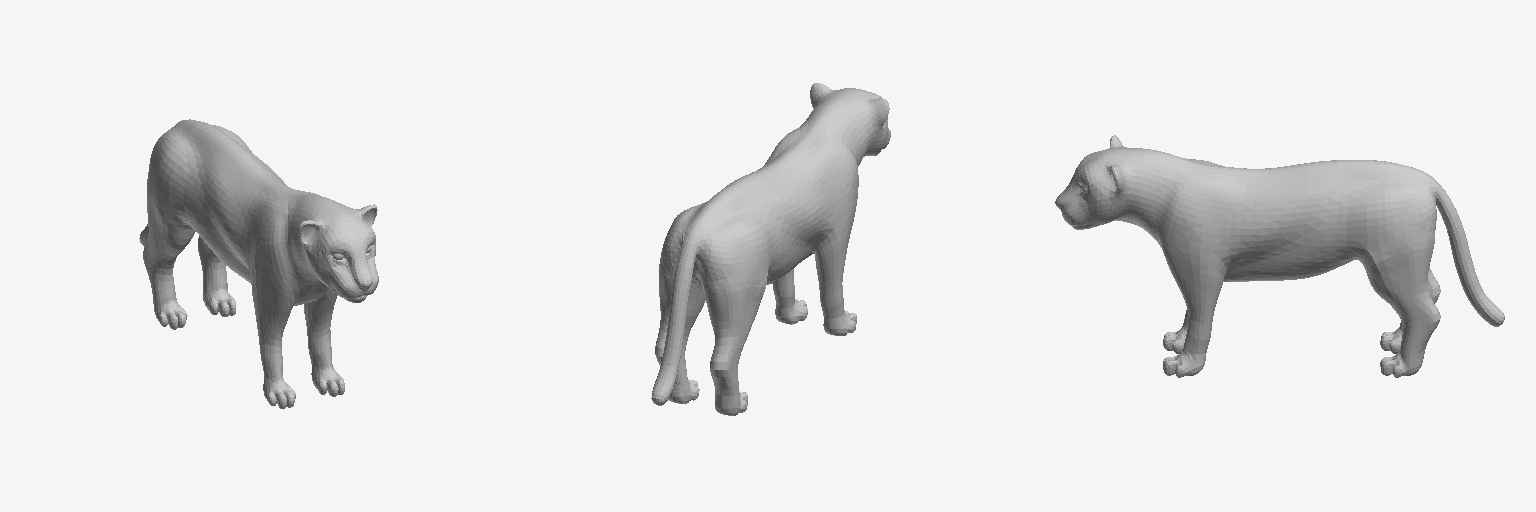
File: jaguar.obj
3 renders of one model, left to right at view 1: azimuth 30°, elevation 25°; view 2: azimuth 150°, elevation 25°; view 3: azimuth 270°, elevation 25°, orthographic.
Parts seen in each view (by area): view 1: jaguar_Vert.002; view 2: jaguar_Vert.002; view 3: jaguar_Vert.002.
Part boxes in pixels (left/top/right/bottom): jaguar_Vert.002: left=139, top=119, right=378, bottom=408; jaguar_Vert.002: left=651, top=83, right=890, bottom=415; jaguar_Vert.002: left=1055, top=135, right=1504, bottom=377.
Bounding box in the file's own units: 0.4562 × 1 × 1.94.